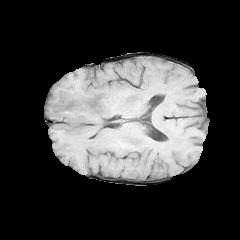glioma: (46, 90, 113, 134)
